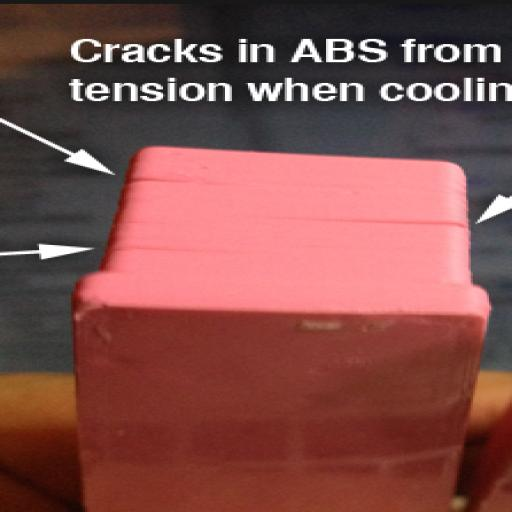cracks: (97, 167, 267, 200), (322, 215, 474, 248), (90, 241, 209, 269)
